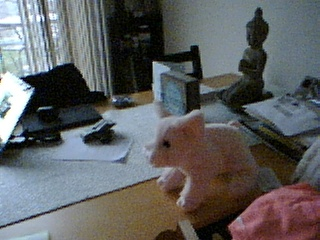piggy: (142, 100, 260, 213)
